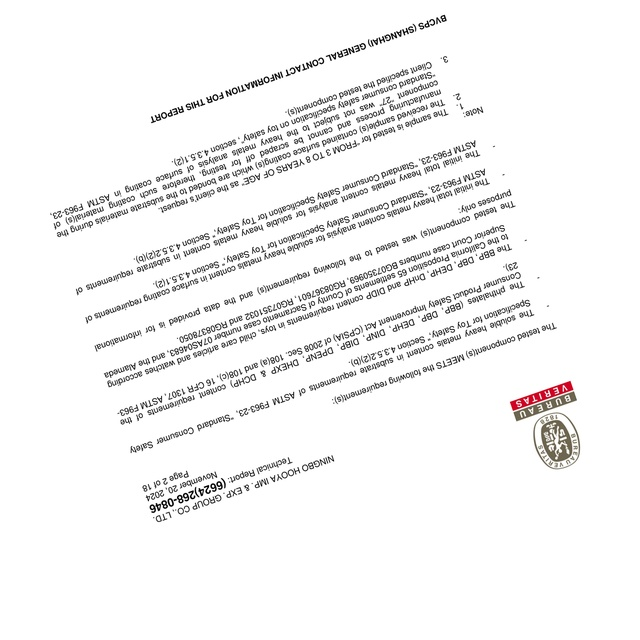bureau_veritas: (508, 376, 589, 475)
